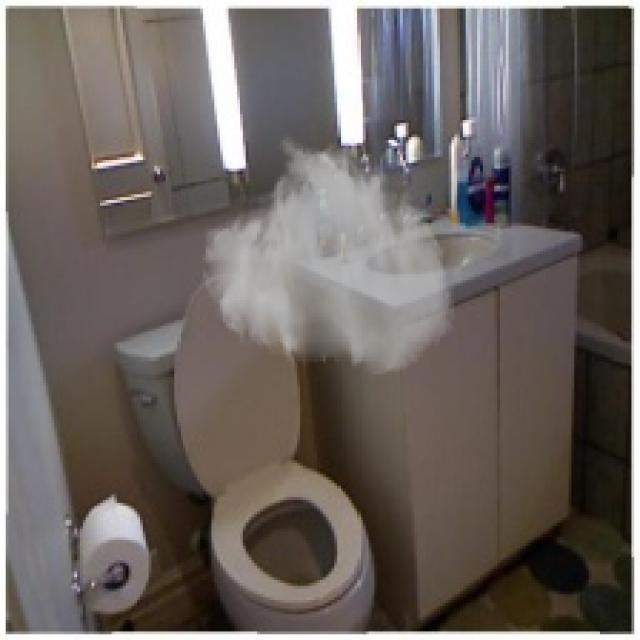Smoke: (200, 134, 457, 377)
